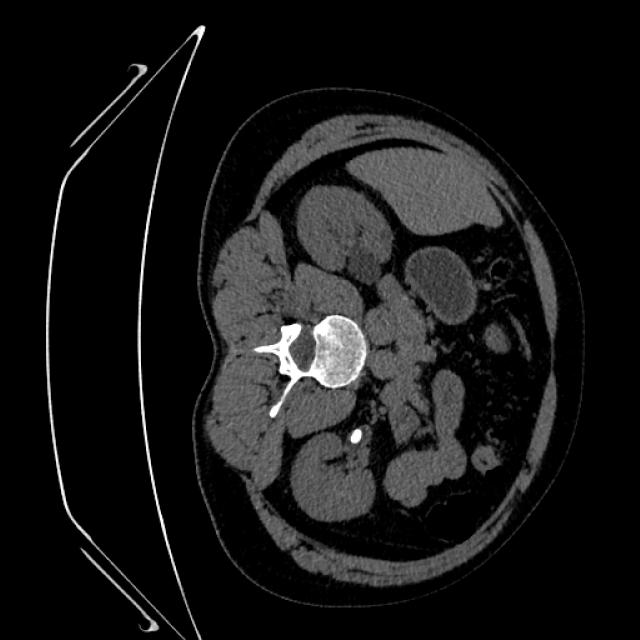kidneystone: (347, 429, 361, 445)
